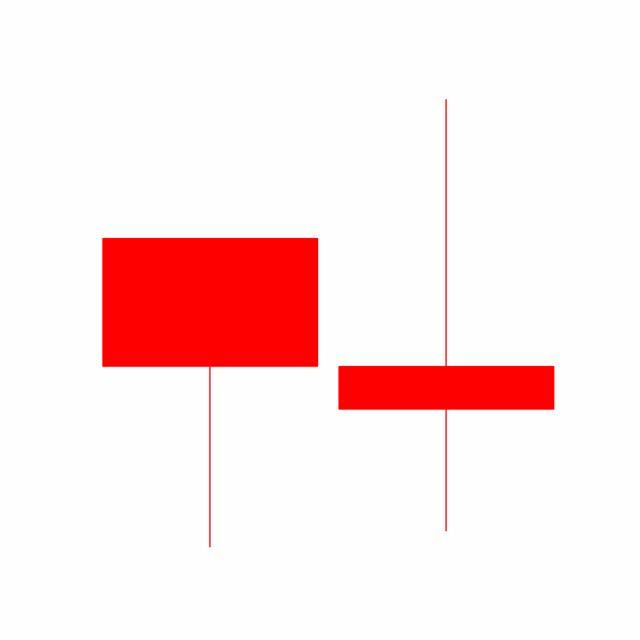Spinning Top: (328, 95, 566, 537)
